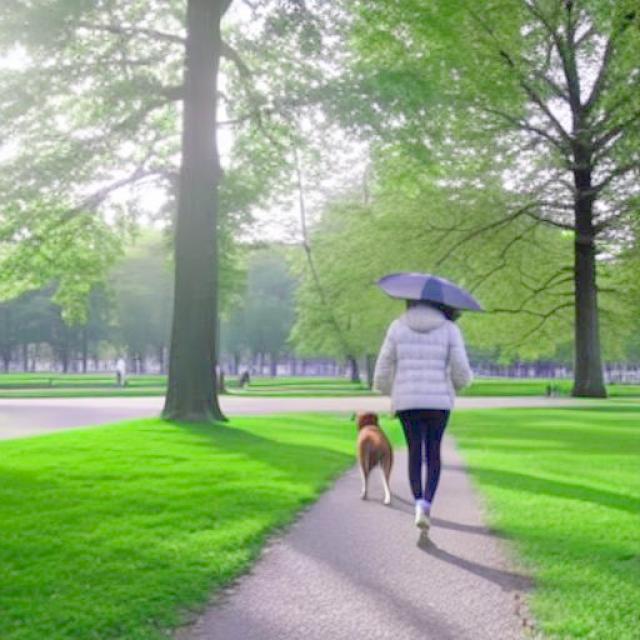Unleashed_Dog: (350, 401, 448, 506)
